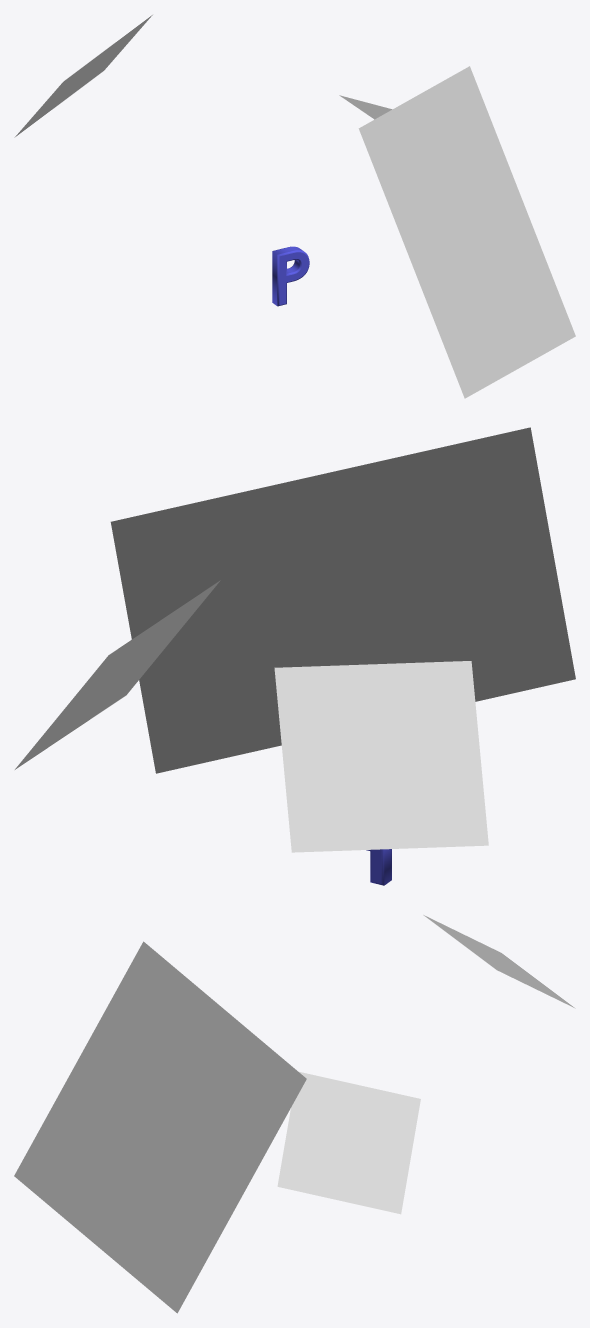
3 views of the same model, one above another, from view 1: azimuth 30°, elevation 25°; view 2: azimuth 150°, elevation 25°; view 3: azimuth 270°, elevation 25° (orthographic). The views are drawn at different scales.
Visible parts, largest first — view 1: Plane.001, Plane.002, Text; view 2: Plane.001, Plane.002, Plane, Text; view 3: Plane.001, Plane, Plane.002.
Part boxes in pixels (<box>): Plane.001: <box>358,66,575,398</box>; Plane.002: <box>14,15,152,137</box>; Text: <box>272,246,309,306</box>; Plane.001: <box>110,427,575,773</box>; Plane.002: <box>274,661,488,852</box>; Plane: <box>15,580,220,769</box>; Text: <box>366,849,391,885</box>; Plane.001: <box>14,941,306,1313</box>; Plane: <box>277,1072,420,1214</box>; Plane.002: <box>423,915,575,1008</box>.
Size of the model in its own units: 2861 by 1934 by 3737.
